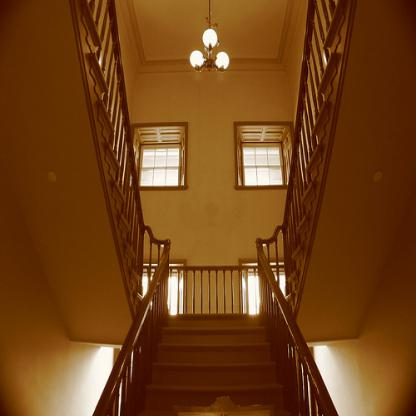stairs: (166, 327, 263, 416)
